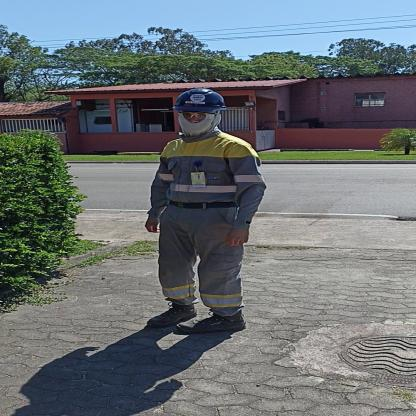Balaclava: (177, 107, 219, 138)
Capacete: (175, 87, 226, 110)
